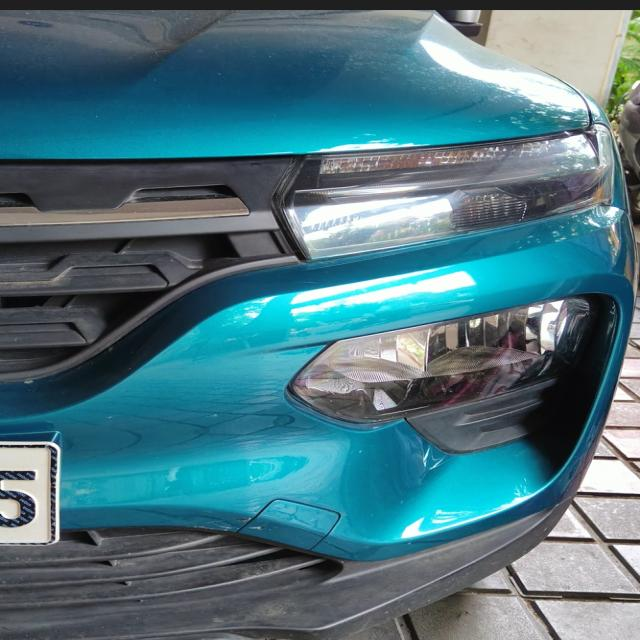scratch: (187, 514, 269, 536)
